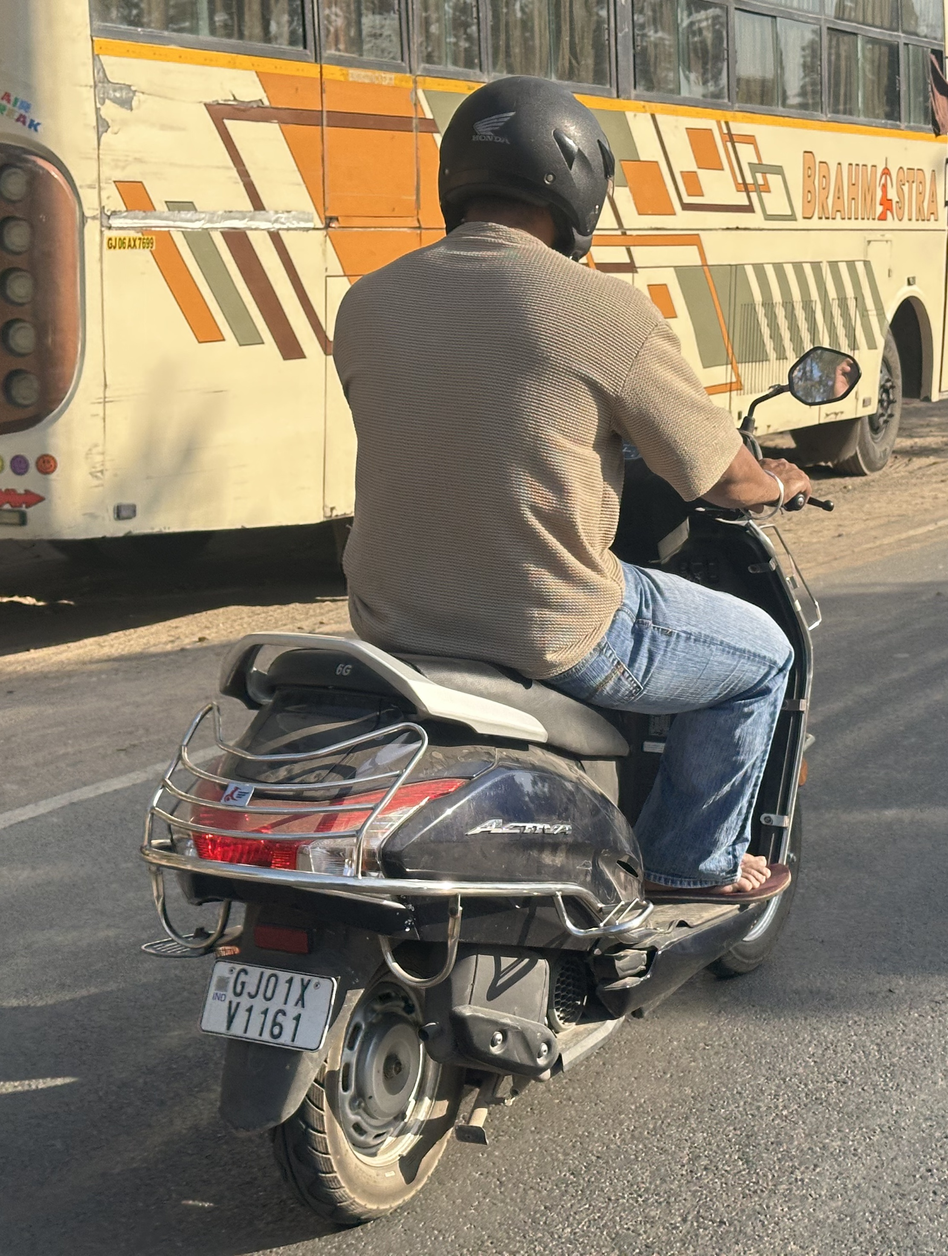BikeWithRider: (121, 59, 872, 1241)
Helmet: (417, 62, 630, 275)
